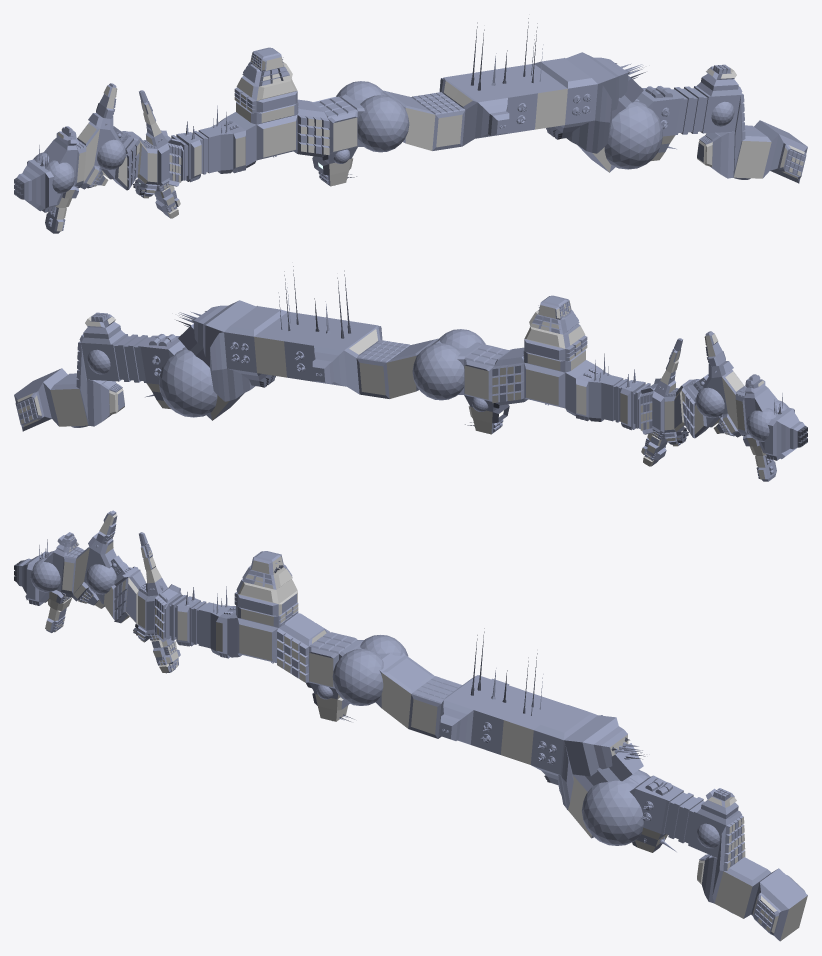
File: gen1.gltf
3 views of the same model, one above another, from view 1: azimuth 30°, elevation 25°; view 2: azimuth 150°, elevation 25°; view 3: azimuth 330°, elevation 25° (orthographic).
Parts seen in each view (by area): view 1: Spaceship; view 2: Spaceship; view 3: Spaceship.
Boxes of the visible parts, x1,y1,x2,y2 form: Spaceship: (14,18,807,233); Spaceship: (14,266,807,481); Spaceship: (14,510,807,941).
Size of the model in its own units: 25.74 by 8.12 by 3.43.
